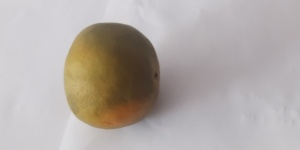BAD: (64, 20, 163, 132)
